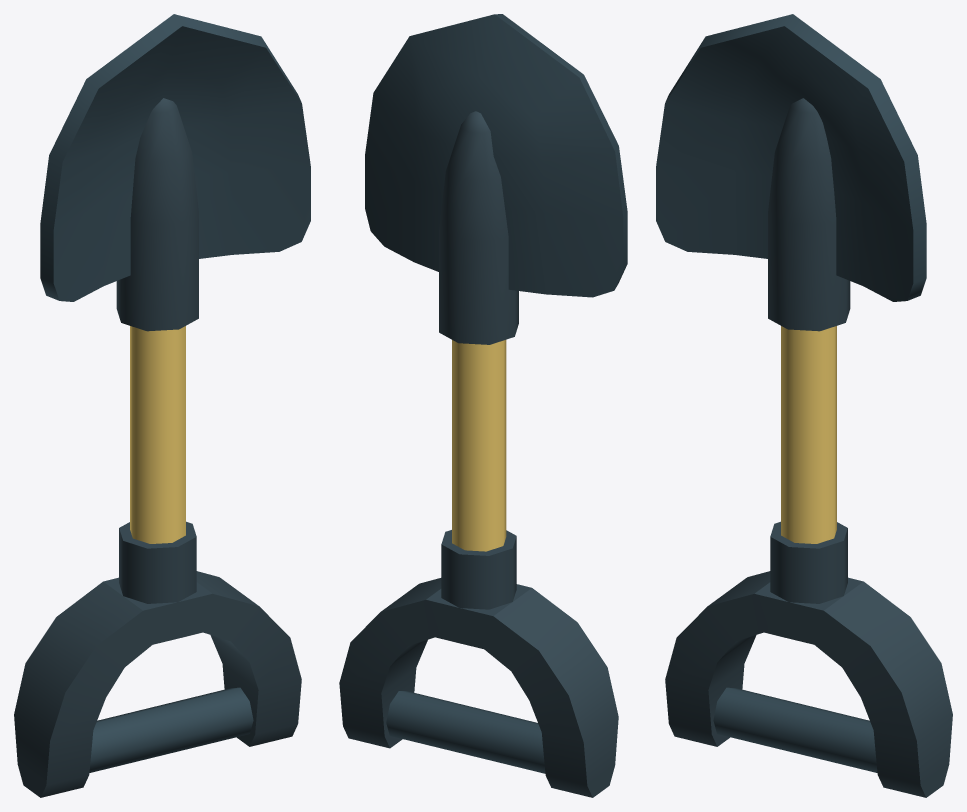
Rendered from MeleeWeaponAgent_Shovel.fbx.
3 views of the same model, side by side, from view 1: azimuth 30°, elevation 25°; view 2: azimuth 150°, elevation 25°; view 3: azimuth 330°, elevation 25° (orthographic). The views are drawn at different scales.
Parts seen in each view (by area): view 1: Shovel01; view 2: Shovel01; view 3: Shovel01.
Part boxes in pixels (x1=…): Shovel01: x1=14, y1=14, x2=310, y2=797; Shovel01: x1=339, y1=14, x2=627, y2=797; Shovel01: x1=656, y1=14, x2=952, y2=797.
Size of the model in its own units: 0.432 by 1.18 by 0.1284.
